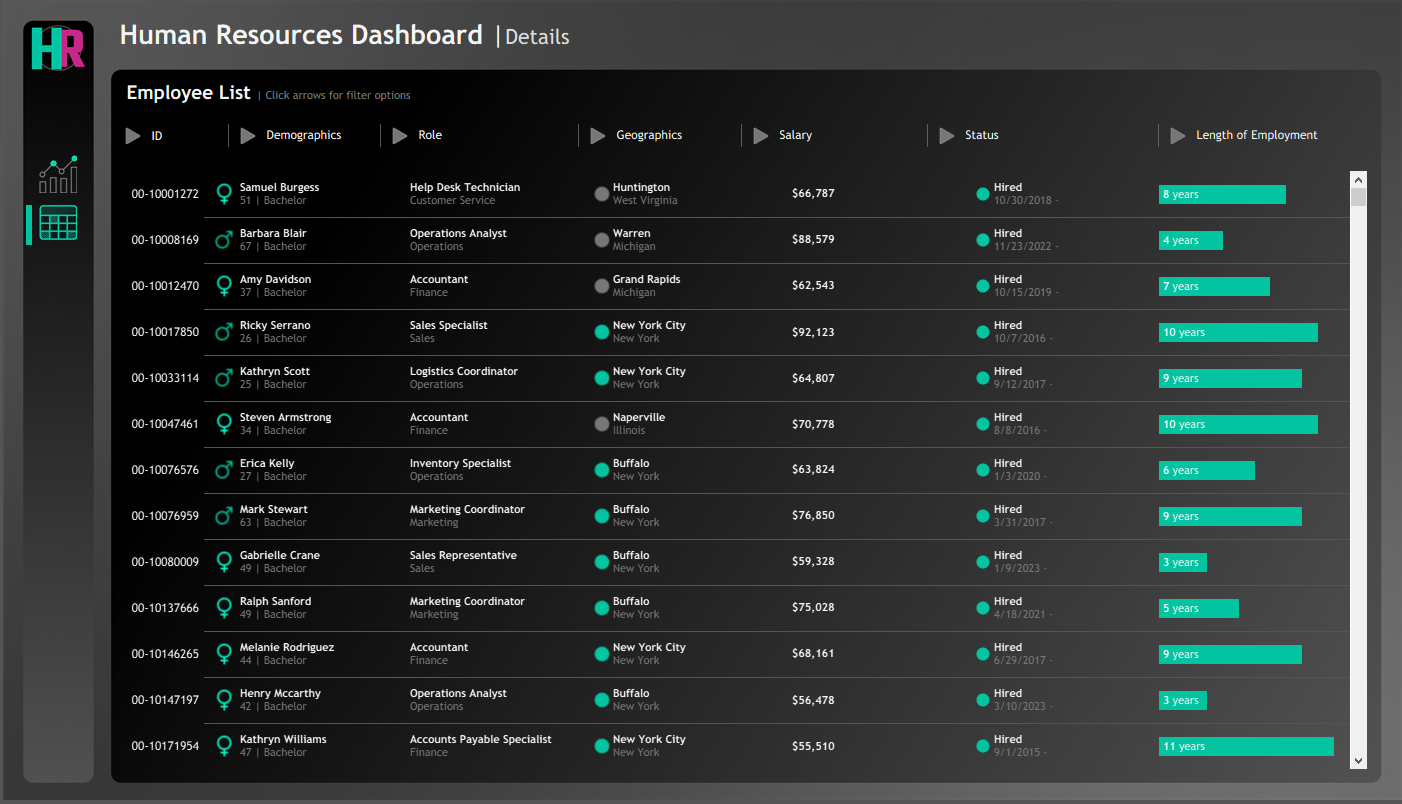

The page's visual inventory and layout, read from the dashboard file:
{"tool":"tableau","page":{"name":"HR | Details","canvas":[1400,800],"ordinal":0},"visuals":[{"type":"image","param":"Image/background dashbaord details.png","box":[0,0,1400,800]},{"type":"blank","box":[90,0,1309,240]},{"type":"text","box":[110,0,673,70]},{"type":"blank","box":[783,0,597,70]},{"type":"image","param":"Image/Logo.png","box":[20,20,70,55]},{"type":"text","box":[117,77,1256,37]},{"type":"blank","box":[30,85,50,70]},{"type":"dashboard-object","box":[117,114,25,43]},{"type":"text","box":[142,114,77,43]},{"type":"blank","box":[219,114,13,43]},{"type":"dashboard-object","box":[232,114,25,42]},{"type":"text","box":[257,114,114,42]},{"type":"blank","box":[371,114,13,43]},{"type":"dashboard-object","box":[384,114,25,42]},{"type":"text","box":[409,114,160,42]},{"type":"blank","box":[569,114,13,43]},{"type":"dashboard-object","box":[582,114,25,42]},{"type":"text","box":[607,114,125,42]},{"type":"blank","box":[732,114,13,43]},{"type":"dashboard-object","box":[745,114,25,42]},{"type":"text","box":[770,114,148,42]},{"type":"blank","box":[918,114,13,43]},{"type":"dashboard-object","box":[931,114,25,42]},{"type":"text","box":[955.9,114,193.5,42]},{"type":"blank","box":[1149.5,114,13,43]},{"type":"dashboard-object","box":[1162.5,114,25,42]},{"type":"text","box":[1187.5,114,185.5,42]},{"type":"dashboard-object","box":[30,155,50,38]},{"type":"filter","title":"Detailed","param":"[federated.1uy6vyf0tya8w3119f4041qdymfc].[none:Calculation_990228993555632131:nk","box":[232,156,139,48]},{"type":"filter","title":"Detailed","param":"[federated.1uy6vyf0tya8w3119f4041qdymfc].[none:Job Title:nk]","box":[384,156,185,48]},{"type":"filter","title":"Detailed","param":"[federated.1uy6vyf0tya8w3119f4041qdymfc].[none:Calculation_3363625995846344715:n","box":[582,160,150,56]},{"type":"filter","title":"Detailed","param":"[federated.1uy6vyf0tya8w3119f4041qdymfc].[sum:Salary:qk]","box":[745,160,173,68]},{"type":"filter","title":"Detailed","param":"[federated.1uy6vyf0tya8w3119f4041qdymfc].[none:Calculation_2981664453132697602:n","box":[931,160,218.5,56]},{"type":"filter","title":"Detailed","param":"[federated.1uy6vyf0tya8w3119f4041qdymfc].[sum:Calculation_990228993560891399:qk]","box":[1162.5,160,210.5,68]},{"type":"filter","title":"Detailed","param":"[federated.1uy6vyf0tya8w3119f4041qdymfc].[none:Employee_ID:nk]","box":[117,161,102,53]},{"type":"worksheet","title":"Detailed","mark":"Shape","rows":["Employee_ID"],"cols":["Calculation_990228993555034113","Calculation_990228993555034113","Calculation_990228993555034113","Calculation_990228993555034113","Calculation_990228993555034113","Calculation_990228993560891399"],"box":[117,167,1256,606]},{"type":"blank","box":[30,193,50,10]},{"type":"dashboard-object","box":[30,203,50,38]},{"type":"filter","title":"Detailed","param":"[federated.1uy6vyf0tya8w3119f4041qdymfc].[none:Gender:nk]","box":[232,204,139,48]},{"type":"filter","title":"Detailed","param":"[federated.1uy6vyf0tya8w3119f4041qdymfc].[none:Department:nk]","box":[384,204,185,48]},{"type":"blank","box":[23,205,6,40]},{"type":"filter","title":"Detailed","param":"[federated.1uy6vyf0tya8w3119f4041qdymfc].[none:State:nk]","box":[582,216,150,56]},{"type":"filter","title":"Detailed","param":"[federated.1uy6vyf0tya8w3119f4041qdymfc].[yr:Hiredate:ok]","box":[931,216,218.5,56]},{"type":"text","box":[90,240,1309,320]},{"type":"blank","box":[30,241,50,70]},{"type":"filter","title":"Detailed","param":"[federated.1uy6vyf0tya8w3119f4041qdymfc].[none:Calculation_3363625995862552598:n","box":[232,252,139,48]},{"type":"filter","title":"Detailed","param":"[federated.1uy6vyf0tya8w3119f4041qdymfc].[none:City:nk]","box":[582,272,150,56]},{"type":"filter","title":"Detailed","param":"[federated.1uy6vyf0tya8w3119f4041qdymfc].[yr:Termdate:ok]","box":[931,272,218.5,56]},{"type":"filter","title":"Detailed","param":"[federated.1uy6vyf0tya8w3119f4041qdymfc].[none:Education Level:nk]","box":[232,300,139,48]},{"type":"blank","box":[90,560,1309,240]}]}

Visuals, with their boxes in screenshot pixels (x1, y1, x2, y2), scaled from the page's 1400x800 canvas onto the 1402x804 screenshot:
image: detection(0, 0, 1401, 803)
blank: detection(90, 0, 1401, 241)
text: detection(110, 0, 784, 70)
blank: detection(784, 0, 1382, 70)
image: detection(20, 20, 90, 75)
text: detection(117, 77, 1375, 115)
blank: detection(30, 85, 80, 156)
dashboard-object: detection(117, 115, 142, 158)
text: detection(142, 115, 219, 158)
blank: detection(219, 115, 232, 158)
dashboard-object: detection(232, 115, 257, 157)
text: detection(257, 115, 372, 157)
blank: detection(372, 115, 385, 158)
dashboard-object: detection(385, 115, 410, 157)
text: detection(410, 115, 570, 157)
blank: detection(570, 115, 583, 158)
dashboard-object: detection(583, 115, 608, 157)
text: detection(608, 115, 733, 157)
blank: detection(733, 115, 746, 158)
dashboard-object: detection(746, 115, 771, 157)
text: detection(771, 115, 919, 157)
blank: detection(919, 115, 932, 158)
dashboard-object: detection(932, 115, 957, 157)
text: detection(957, 115, 1151, 157)
blank: detection(1151, 115, 1164, 158)
dashboard-object: detection(1164, 115, 1189, 157)
text: detection(1189, 115, 1375, 157)
dashboard-object: detection(30, 156, 80, 194)
"Detailed" filter: detection(232, 157, 372, 205)
"Detailed" filter: detection(385, 157, 570, 205)
"Detailed" filter: detection(583, 161, 733, 217)
"Detailed" filter: detection(746, 161, 919, 229)
"Detailed" filter: detection(932, 161, 1151, 217)
"Detailed" filter: detection(1164, 161, 1375, 229)
"Detailed" filter: detection(117, 162, 219, 215)
"Detailed" worksheet (Shape marks): detection(117, 168, 1375, 777)
blank: detection(30, 194, 80, 204)
dashboard-object: detection(30, 204, 80, 242)
"Detailed" filter: detection(232, 205, 372, 253)
"Detailed" filter: detection(385, 205, 570, 253)
blank: detection(23, 206, 29, 246)
"Detailed" filter: detection(583, 217, 733, 273)
"Detailed" filter: detection(932, 217, 1151, 273)
text: detection(90, 241, 1401, 563)
blank: detection(30, 242, 80, 313)
"Detailed" filter: detection(232, 253, 372, 301)
"Detailed" filter: detection(583, 273, 733, 330)
"Detailed" filter: detection(932, 273, 1151, 330)
"Detailed" filter: detection(232, 301, 372, 350)
blank: detection(90, 563, 1401, 803)
